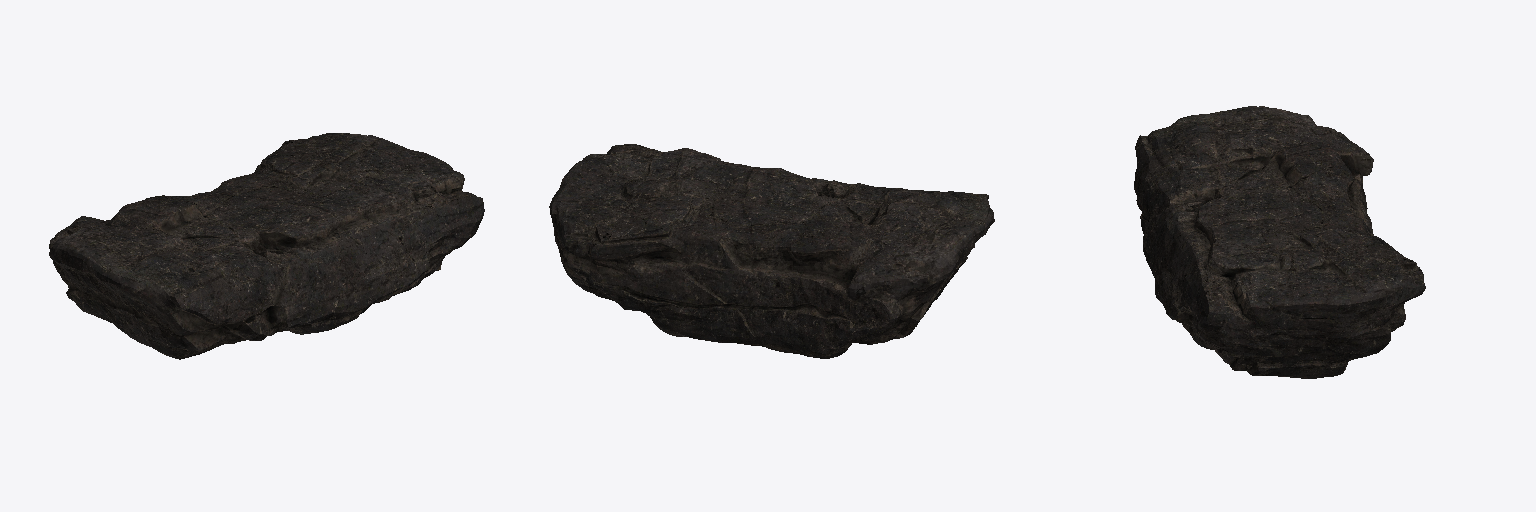
3 views of the same model, side by side, from view 1: azimuth 30°, elevation 25°; view 2: azimuth 150°, elevation 25°; view 3: azimuth 270°, elevation 25° (orthographic).
Parts seen in each view (by area): view 1: Big_asteroid_Platform_Low; view 2: Big_asteroid_Platform_Low; view 3: Big_asteroid_Platform_Low.
Part boxes in pixels (bbox=[...]): Big_asteroid_Platform_Low: bbox=[49, 133, 484, 359]; Big_asteroid_Platform_Low: bbox=[549, 144, 994, 358]; Big_asteroid_Platform_Low: bbox=[1134, 106, 1425, 378].
Size of the model in its own units: 327 by 99.51 by 213.
Materials: 1 (1 with a texture image).